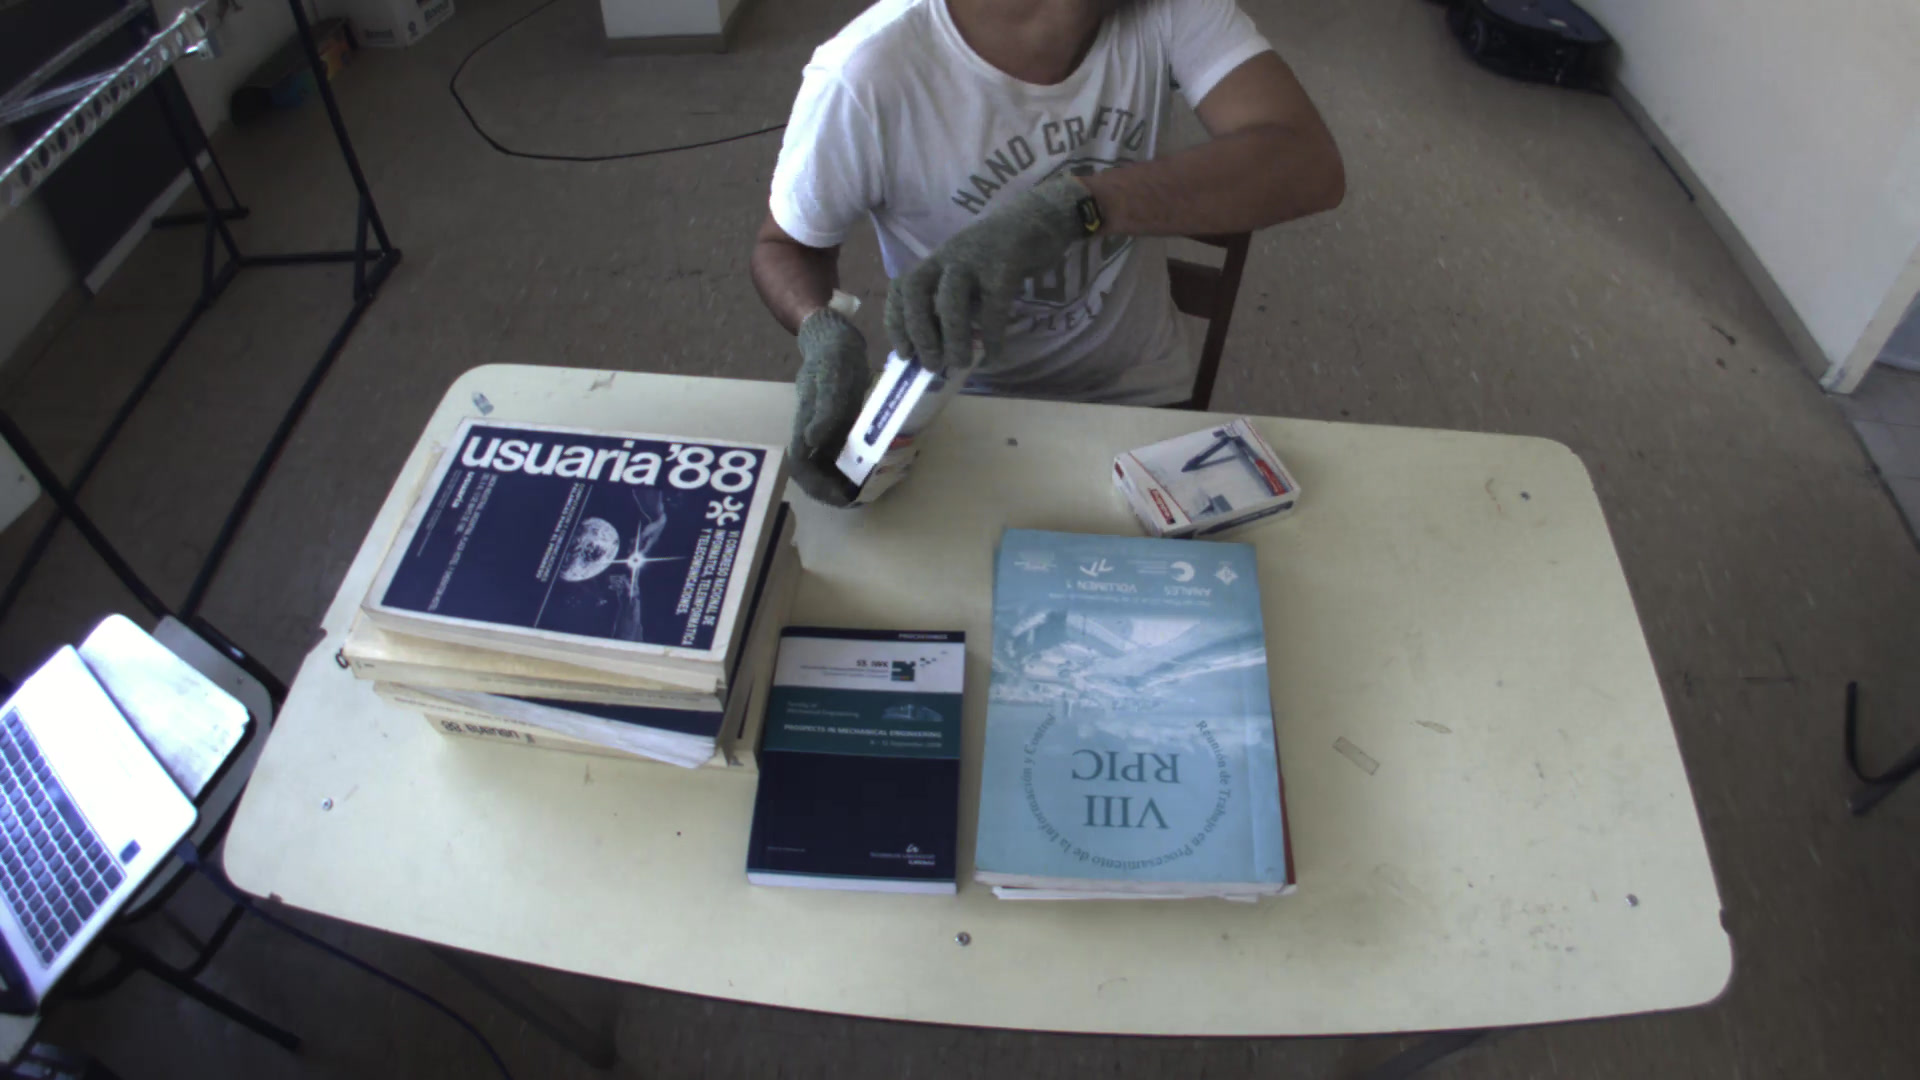hand: (884, 157, 1108, 371), (771, 297, 870, 459)
